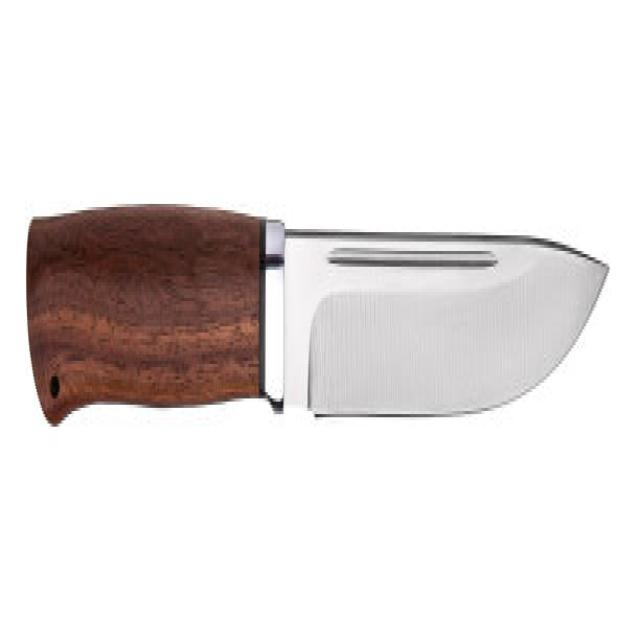knife: (26, 201, 617, 443)
